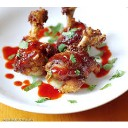chicken_lollipop: (16, 8, 56, 74), (51, 29, 97, 84)
